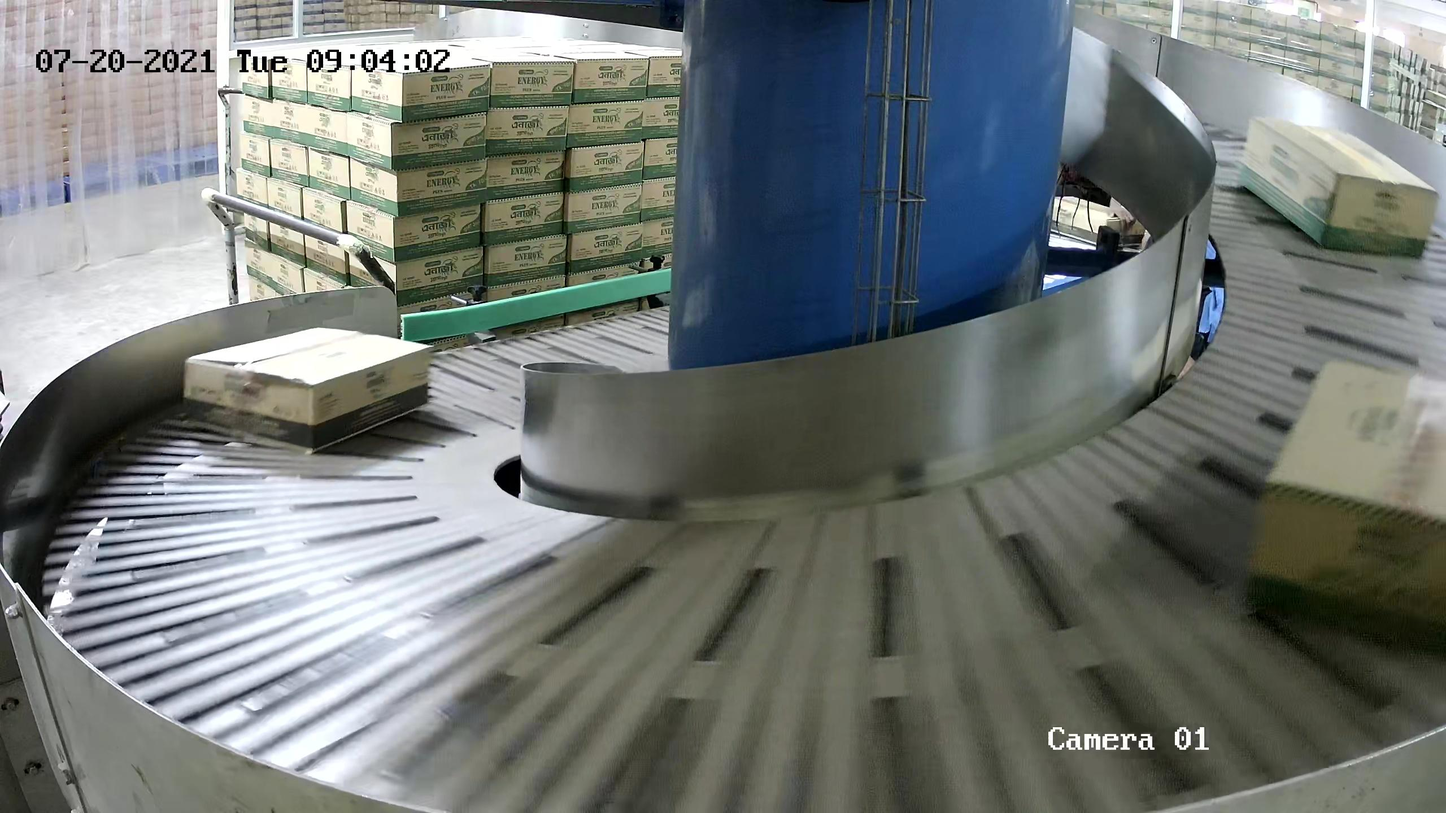Box: (1238, 356, 1446, 668), (182, 326, 431, 455), (1238, 116, 1440, 260)
